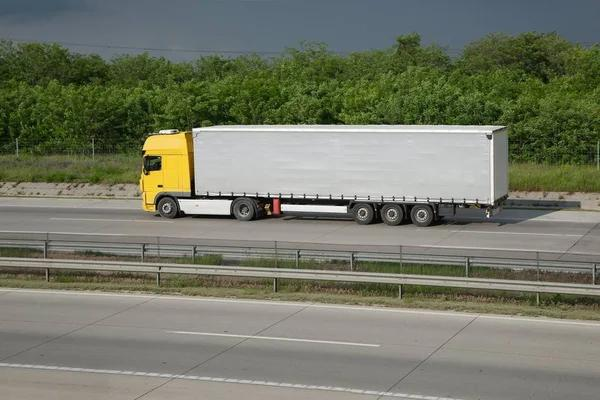vehicle: (140, 124, 509, 226)
